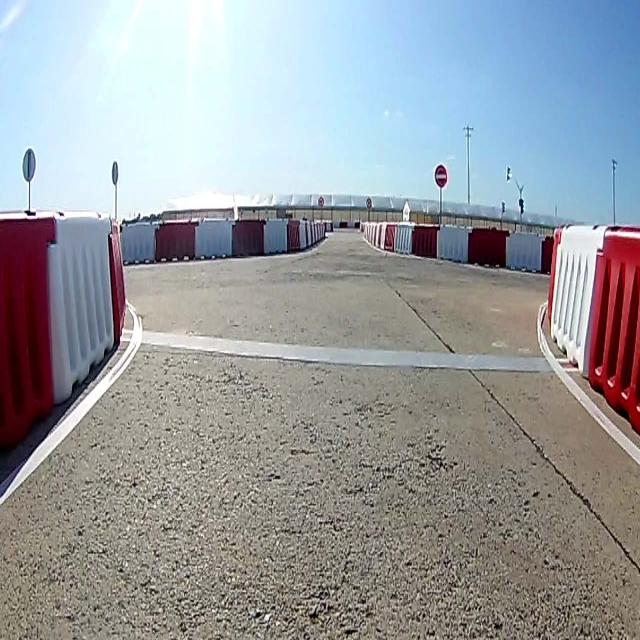girisyok: (434, 162, 448, 190)
